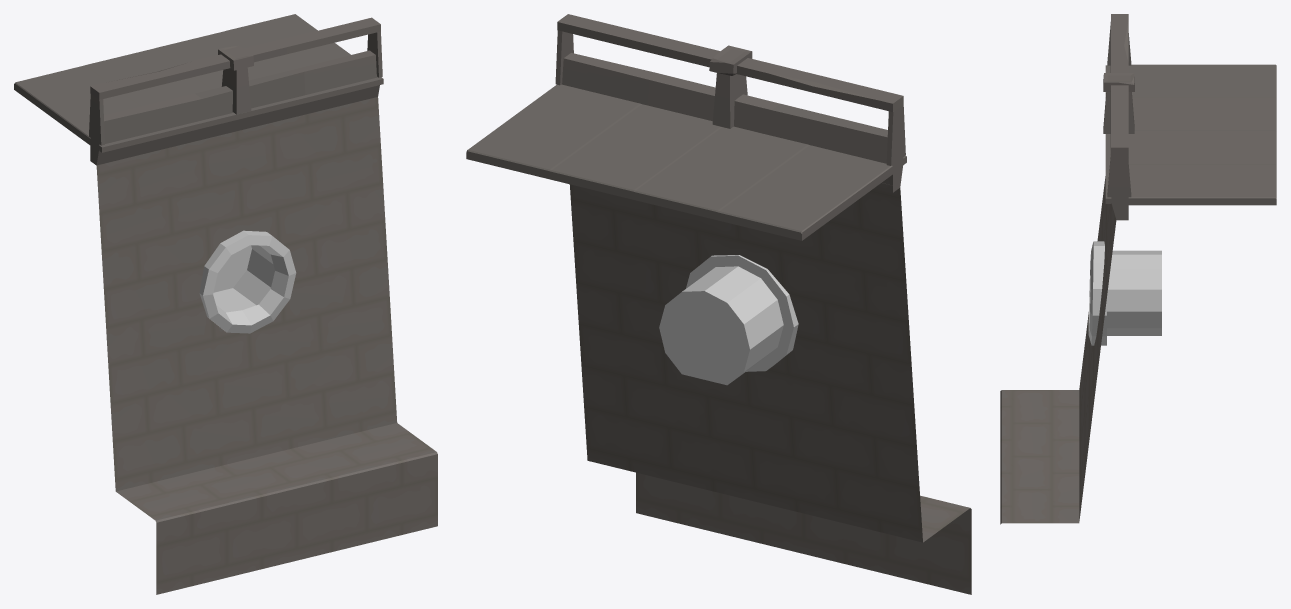
Rendered from NS_River_Wall_Sewer.fbx.
3 views of the same model, side by side, from view 1: azimuth 30°, elevation 25°; view 2: azimuth 150°, elevation 25°; view 3: azimuth 270°, elevation 25° (orthographic). The views are drawn at different scales.
Visible parts, largest first — view 1: NS_River_Wall_Sewer; view 2: NS_River_Wall_Sewer; view 3: NS_River_Wall_Sewer.
Part boxes in pixels (x1=…): NS_River_Wall_Sewer: x1=14, y1=14, x2=437, y2=594; NS_River_Wall_Sewer: x1=466, y1=14, x2=971, y2=594; NS_River_Wall_Sewer: x1=1000, y1=14, x2=1276, y2=524.
Bounding box in the file's own units: 800 × 1258 × 700.
